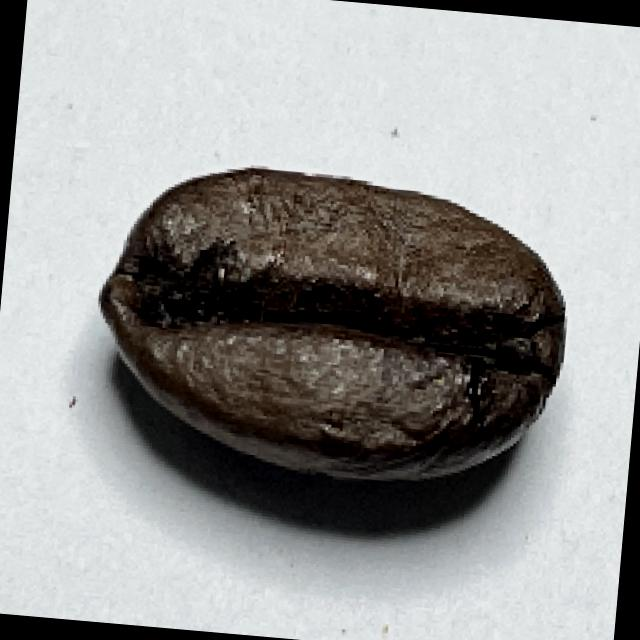bean: (79, 149, 576, 500)
